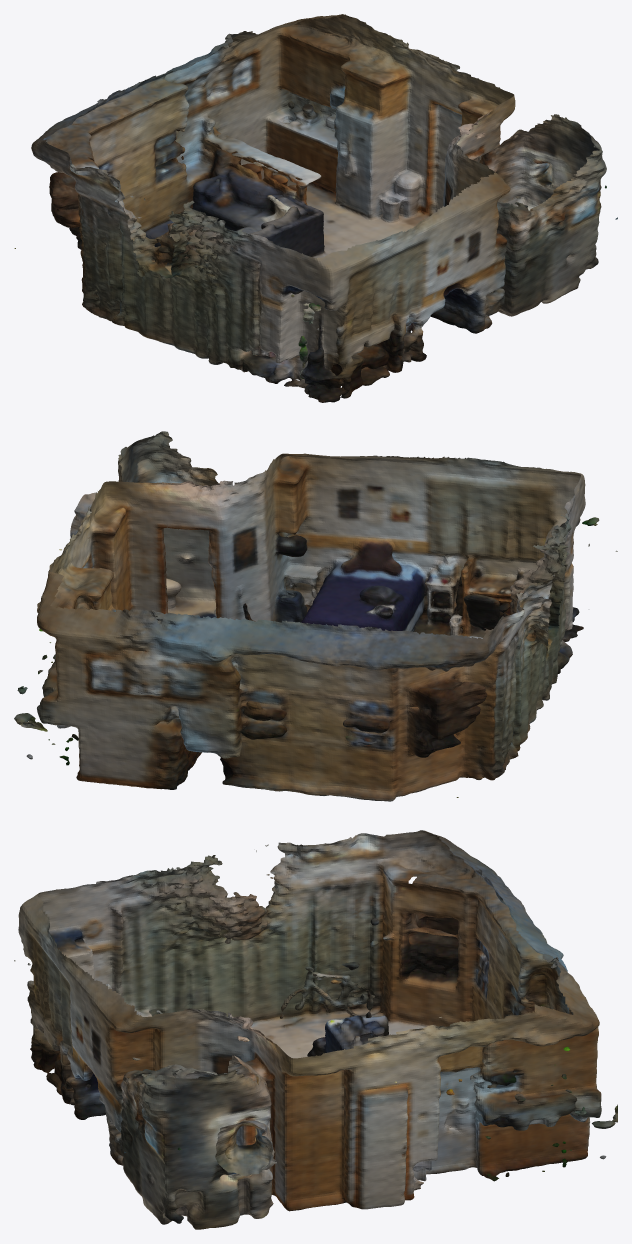
Rendered from mesh_track55771.glb.
The picture shows the model from 3 angles, top to bottom: view 1: azimuth 30°, elevation 25°; view 2: azimuth 150°, elevation 25°; view 3: azimuth 270°, elevation 25°; orthographic projection. The views are drawn at different scales.
Visible parts, largest first — view 1: Mesh; view 2: Mesh; view 3: Mesh.
Boxes of the visible parts, x1,y1,x2,y2 form: Mesh: (14, 14, 617, 402); Mesh: (14, 431, 617, 801); Mesh: (14, 830, 617, 1229).
Bounding box in the file's own units: 8.47 × 2.95 × 8.92.
